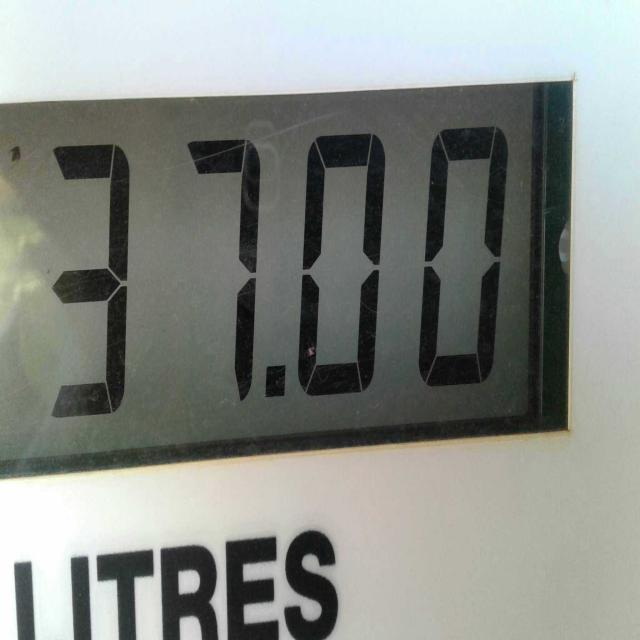.: (252, 347, 294, 416)
0: (406, 111, 522, 401), (285, 116, 389, 414)
3: (39, 124, 153, 430)
7: (170, 130, 266, 410)
